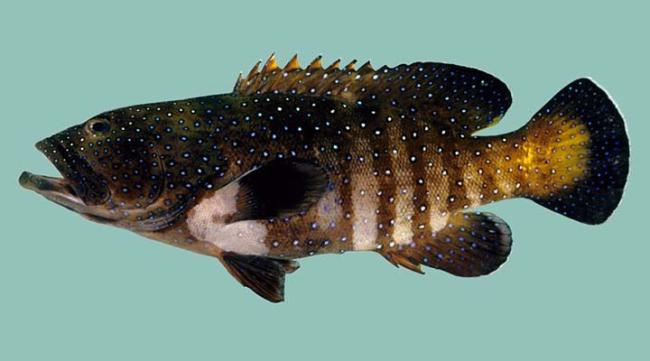fish: (18, 54, 631, 304)
